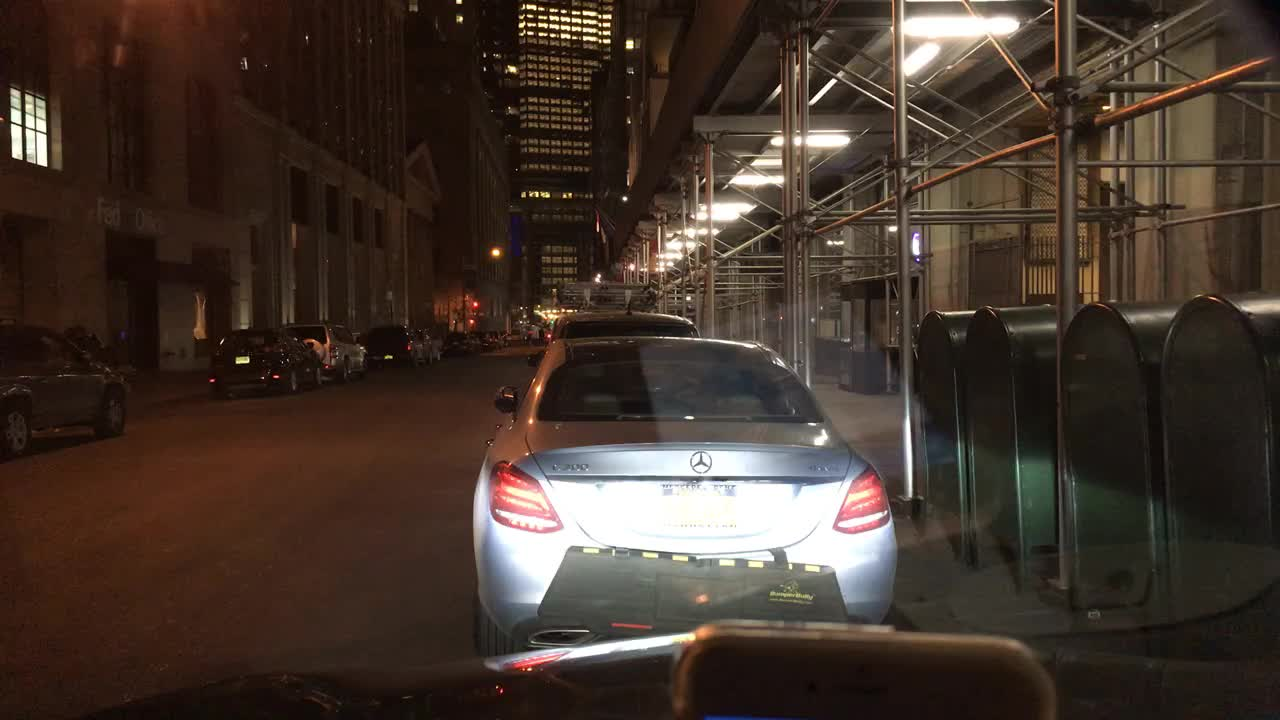car: (469, 336, 902, 660), (1, 319, 131, 464), (201, 326, 324, 398), (284, 321, 374, 383), (552, 311, 704, 335), (357, 326, 418, 374), (412, 325, 456, 363), (445, 334, 484, 358), (486, 330, 509, 347), (474, 332, 495, 350), (504, 328, 524, 345), (525, 325, 538, 343)
person: (539, 324, 544, 344)
